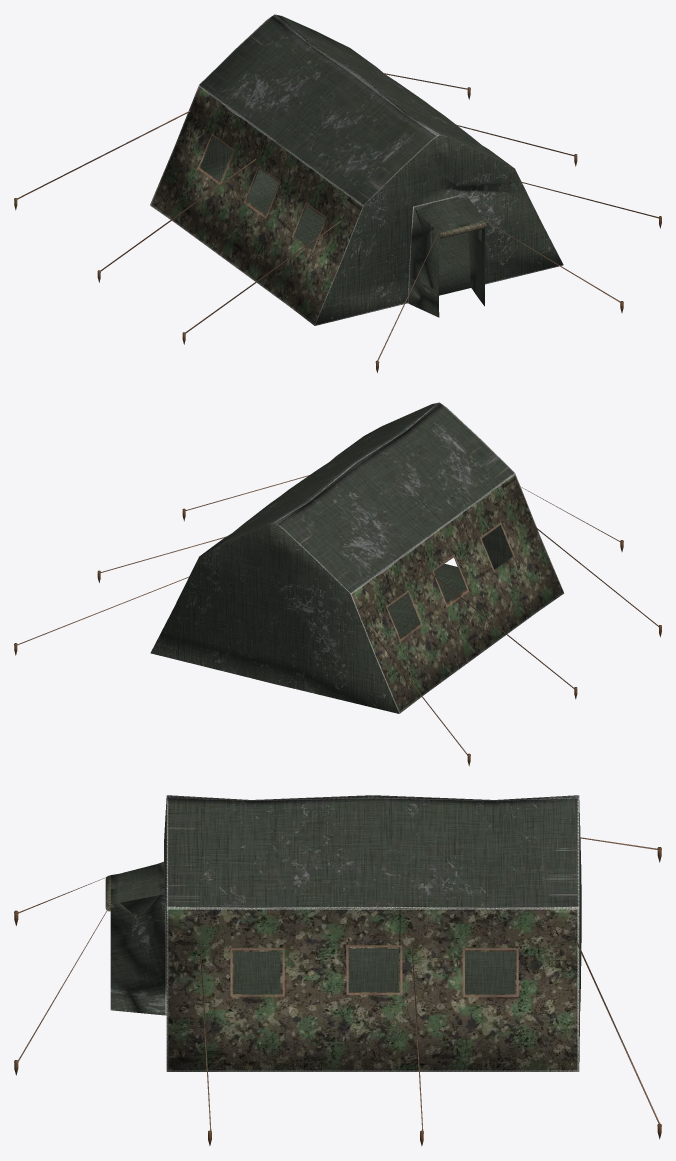
File: tenda.gltf
3 views of the same model, one above another, from view 1: azimuth 30°, elevation 25°; view 2: azimuth 150°, elevation 25°; view 3: azimuth 270°, elevation 25° (orthographic). The views are drawn at different scales.
Parts seen in each view (by area): view 1: tenda; view 2: tenda; view 3: tenda.
Boxes of the visible parts, left/top/right/bottom form: tenda: left=14, top=14, right=661, bottom=372; tenda: left=14, top=402, right=661, bottom=766; tenda: left=14, top=795, right=661, bottom=1146.
Bounding box in the file's own units: 9.76 × 3.2 × 9.13.
Materials: 7 (7 with a texture image).
